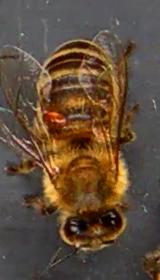varroa_mite: (40, 106, 66, 130)
